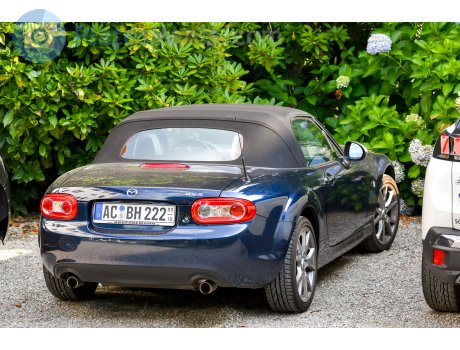License Plates: (104, 201, 175, 222)
